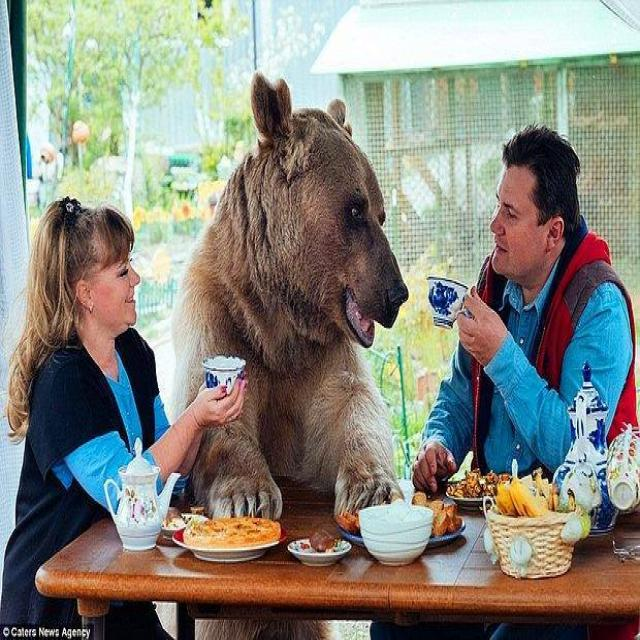Bear: (164, 74, 409, 533)
